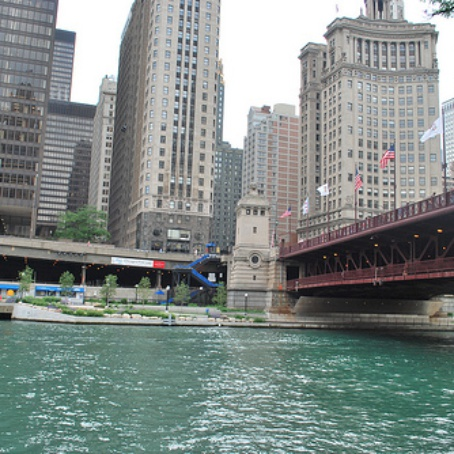bridge: (229, 182, 454, 342)
building: (304, 1, 439, 229), (117, 1, 218, 258), (41, 33, 111, 237), (1, 1, 40, 240), (243, 109, 293, 247)
river: (1, 324, 449, 454)
